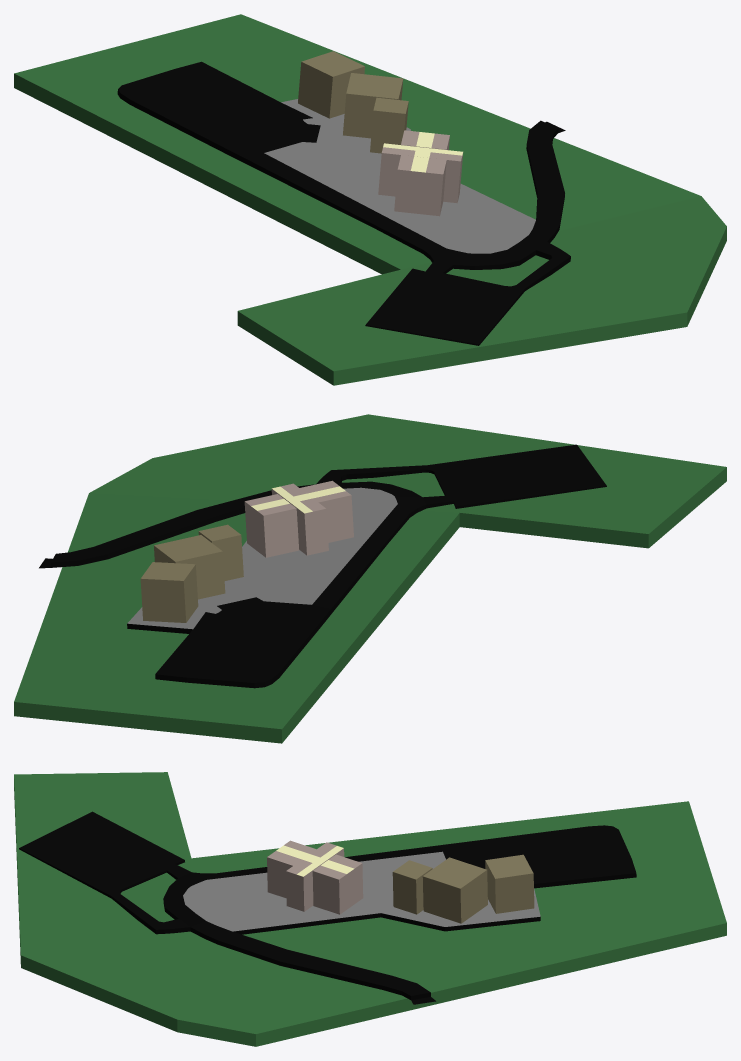
File: church.glb
The picture shows the model from 3 angles, top to bottom: view 1: azimuth 30°, elevation 25°; view 2: azimuth 150°, elevation 25°; view 3: azimuth 270°, elevation 25°; orthographic projection. The views are drawn at different scales.
Visible parts, largest first — view 1: Plane.006, churchlot, churchlot.001; view 2: Plane.006, churchlot, churchlot.001; view 3: Plane.006, churchlot, churchlot.001.
Boxes of the visible parts, x1,y1,x2,y2 form: Plane.006: (14, 14, 726, 385); churchlot: (117, 61, 570, 345); churchlot.001: (298, 51, 463, 216); Plane.006: (14, 414, 726, 743); churchlot: (39, 444, 606, 688); churchlot.001: (140, 480, 353, 622); Plane.006: (14, 772, 726, 1046); churchlot: (19, 811, 636, 1004); churchlot.001: (267, 840, 534, 923).
Bounding box in the file's own units: 0.3602 × 0.0655 × 0.4922.
